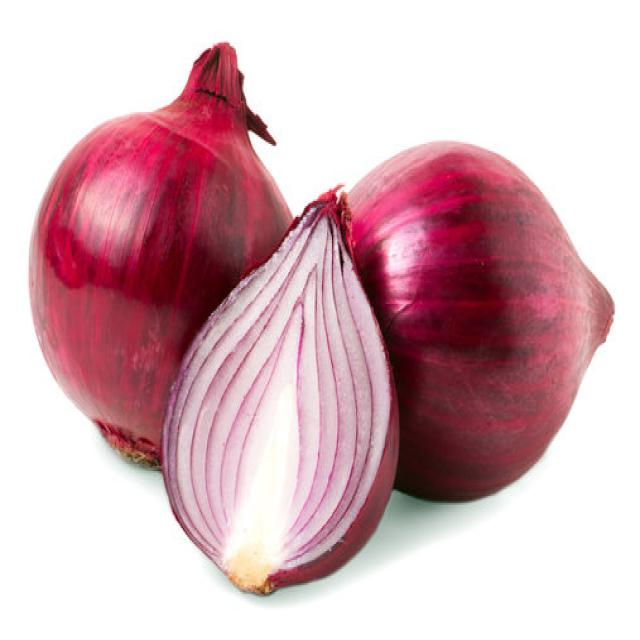Onion: (27, 39, 294, 471), (341, 137, 615, 503), (159, 182, 400, 596)
